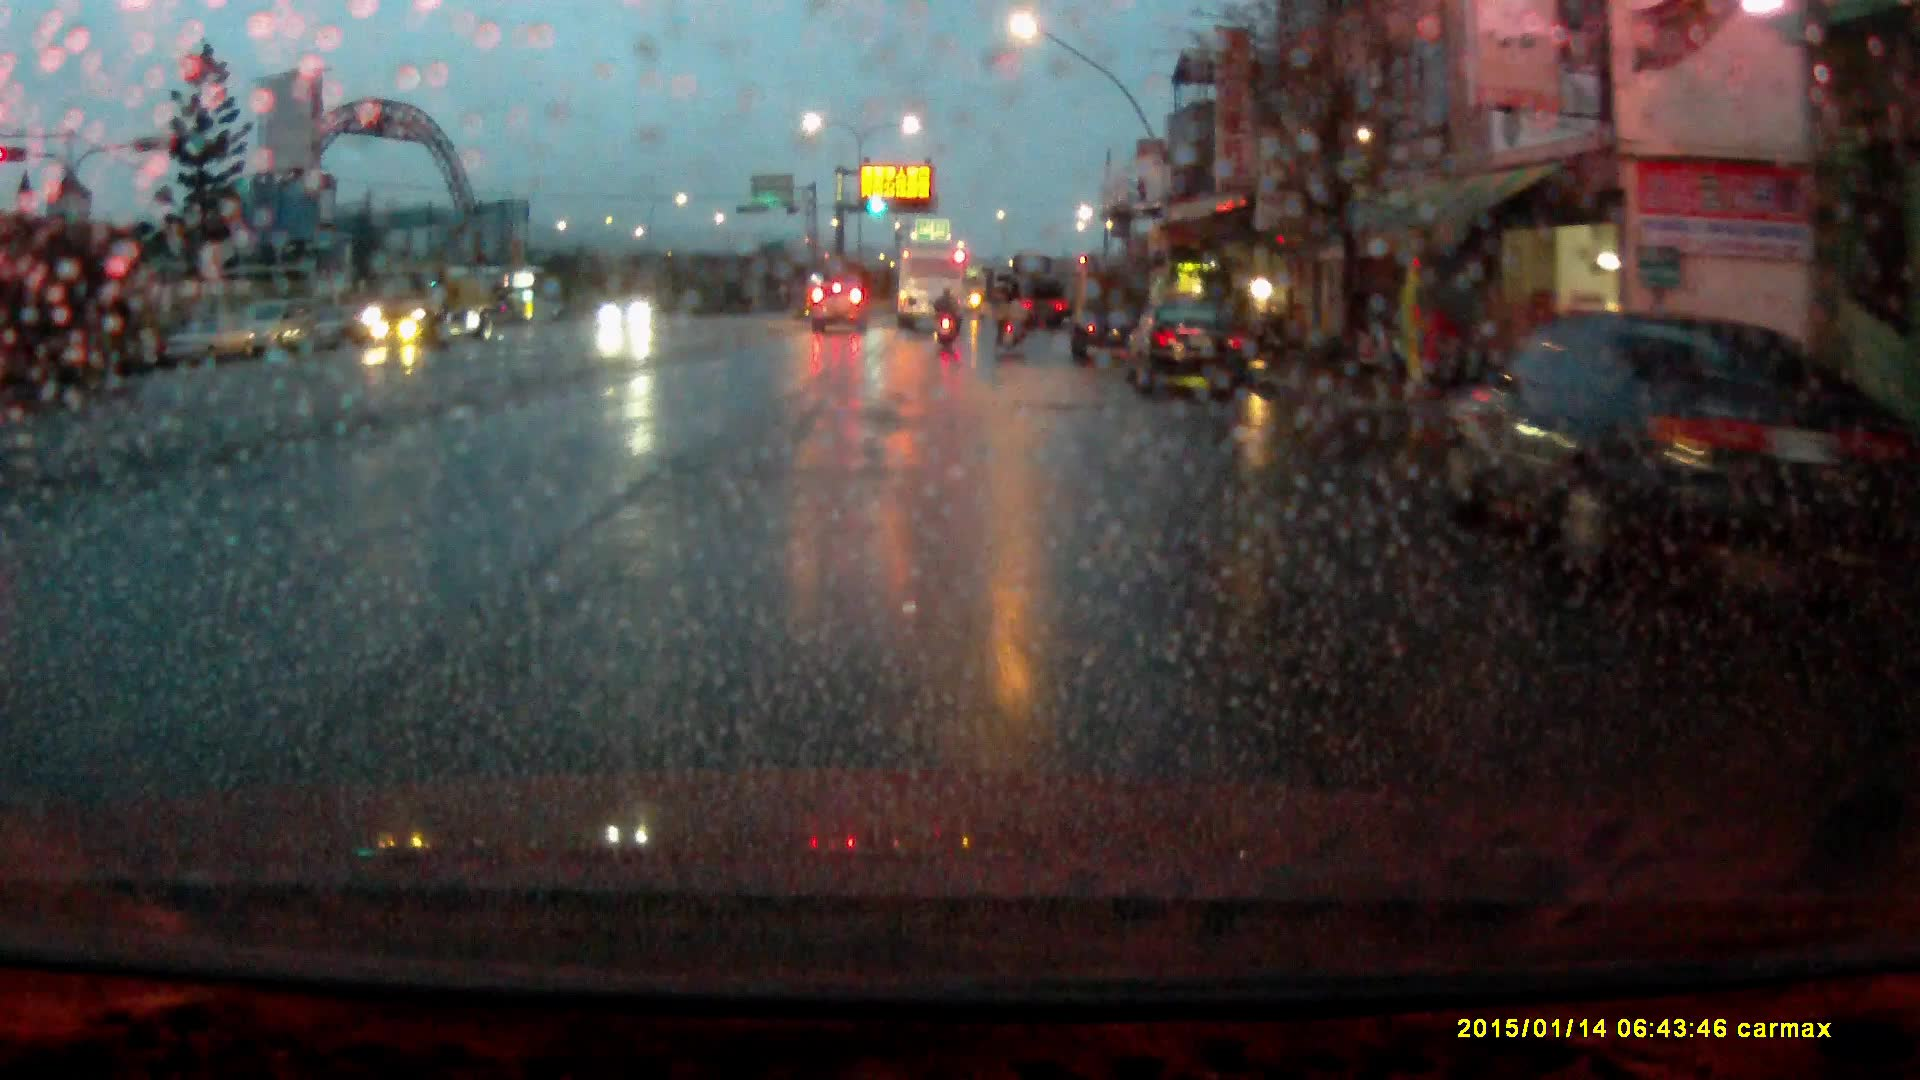rider: (991, 276, 1025, 358), (932, 288, 962, 351)
vehicle: (1426, 314, 1882, 602), (357, 264, 503, 346), (1127, 305, 1255, 397), (1068, 263, 1153, 363), (896, 246, 967, 333), (1005, 255, 1071, 330), (162, 310, 249, 367), (247, 300, 323, 351), (808, 279, 873, 337), (602, 293, 664, 331)
